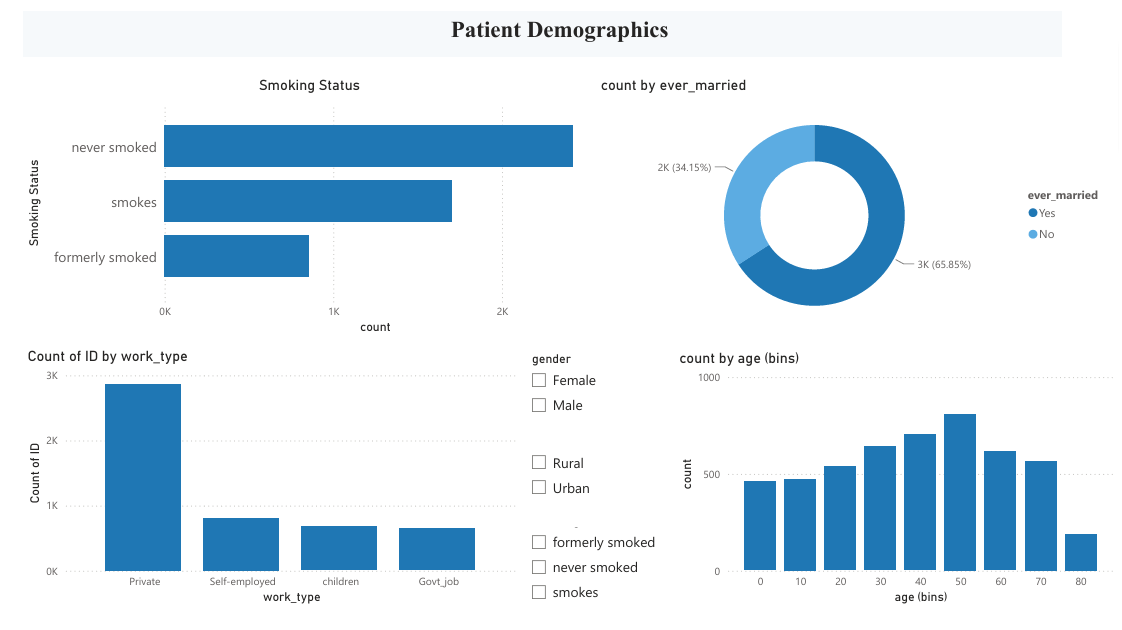

This screenshot's page, from the dashboard's own definition file:
{"tool":"powerbi","page":{"name":"Patient Demographics","canvas":[1280,720],"ordinal":2},"visuals":[{"type":"textbox","box":[10.3,0,1203.4,53.4],"z":0},{"type":"clusteredBarChart","title":" Smoking  Status","fields":{"Category":["stroke_data.Smoking  Status"],"Y":["_Measures.count"]},"box":[9.4,75.5,666,303.8],"z":1000},{"type":"clusteredColumnChart","fields":{"Category":["stroke_data.work_type"],"Y":["CountNonNull(stroke_data.ID)"]},"box":[10,389,578,303],"z":2000},{"type":"donutChart","fields":{"Category":["stroke_data.ever_married"],"Y":["_Measures.count"]},"box":[675.5,75.5,603.8,303.8],"z":3000},{"type":"clusteredColumnChart","fields":{"Category":["stroke_data.age (bins)"],"Y":["_Measures.count"]},"box":[766,390.6,513.2,301.9],"z":4000},{"type":"slicer","fields":{"Values":["stroke_data.Smoking  Status"]},"box":[586.8,577.4,177.4,115.1],"z":5000},{"type":"slicer","fields":{"Values":["stroke_data.Residence_type"]},"box":[586.8,484.9,177.4,113.2],"z":6000},{"type":"slicer","fields":{"Values":["stroke_data.gender"]},"box":[586.8,388.7,177.4,118.9],"z":8001}]}

Visuals, with their boxes in screenshot pixels (x1, y1, x2, y2), scaled from the page's 1280x720 canvas onto the 1122x630 screenshot:
textbox: [9, 0, 1064, 47]
" Smoking  Status" clusteredBarChart: [8, 66, 592, 332]
clusteredColumnChart - stroke_data.work_type x CountNonNull(stroke_data.ID): [9, 340, 515, 606]
donutChart - stroke_data.ever_married x _Measures.count: [592, 66, 1121, 332]
clusteredColumnChart - stroke_data.age (bins) x _Measures.count: [671, 342, 1121, 606]
slicer - stroke_data.Smoking  Status: [514, 505, 670, 606]
slicer - stroke_data.Residence_type: [514, 424, 670, 523]
slicer - stroke_data.gender: [514, 340, 670, 444]
